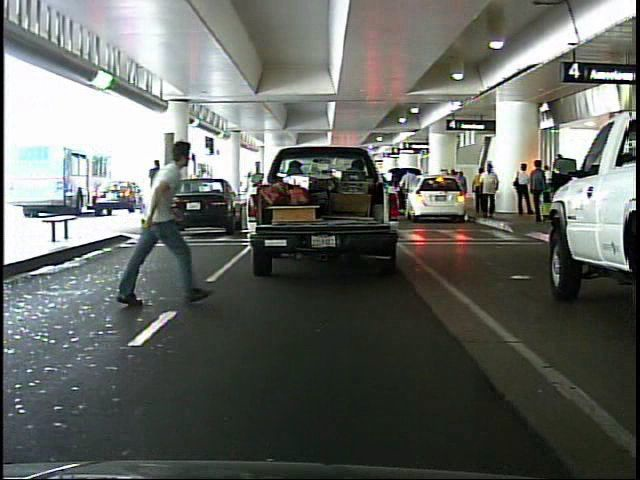person: (99, 124, 213, 317), (472, 156, 499, 224), (147, 157, 169, 219), (512, 158, 534, 219), (530, 158, 550, 225)
